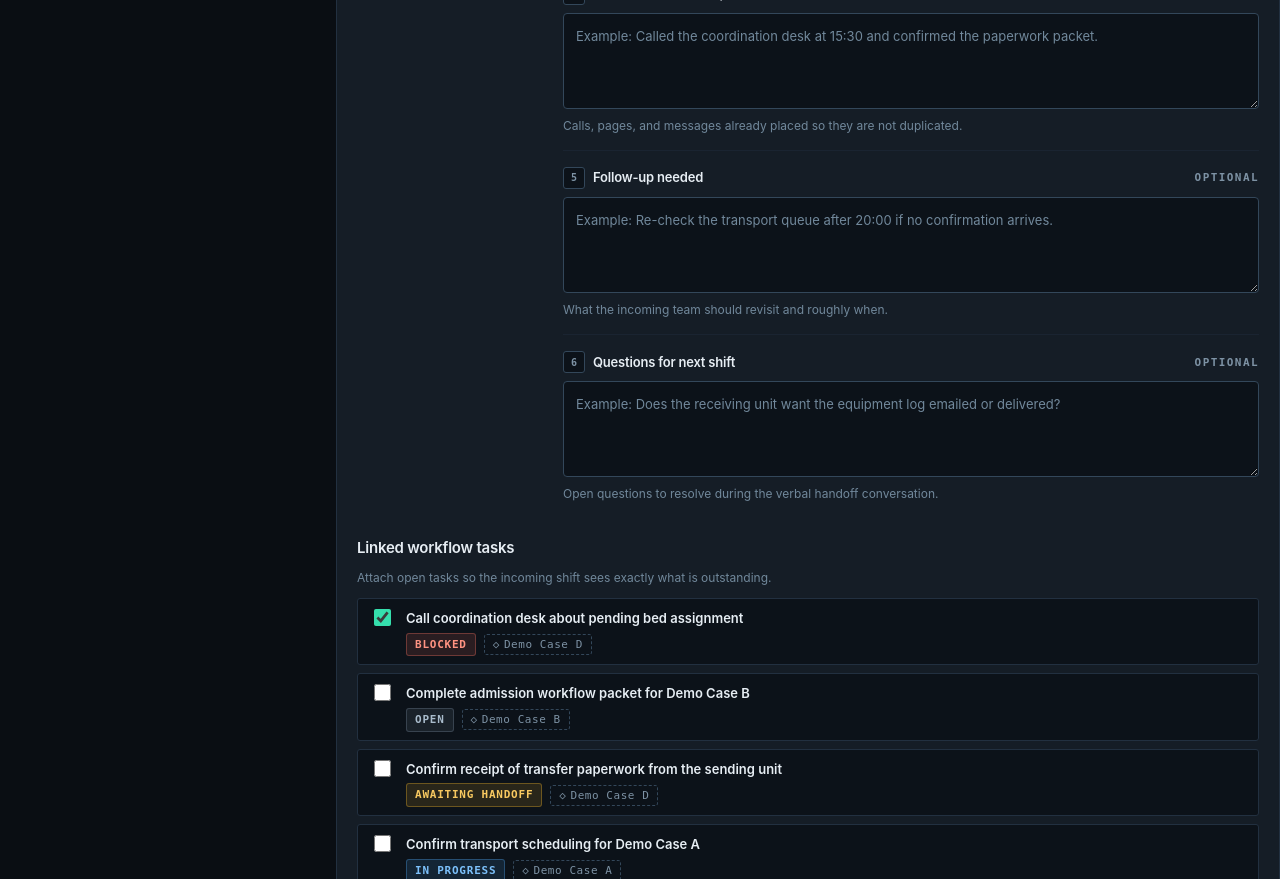
Scenario: HandoffPage › saves a draft only when there are unsaved changes
The image size is (1280, 879).
(page scrolled)
Type "Who owns the pager log?" into the text box named "Questions for next shift" at (911, 429), box [563,381,1259,477]
(page scrolled)
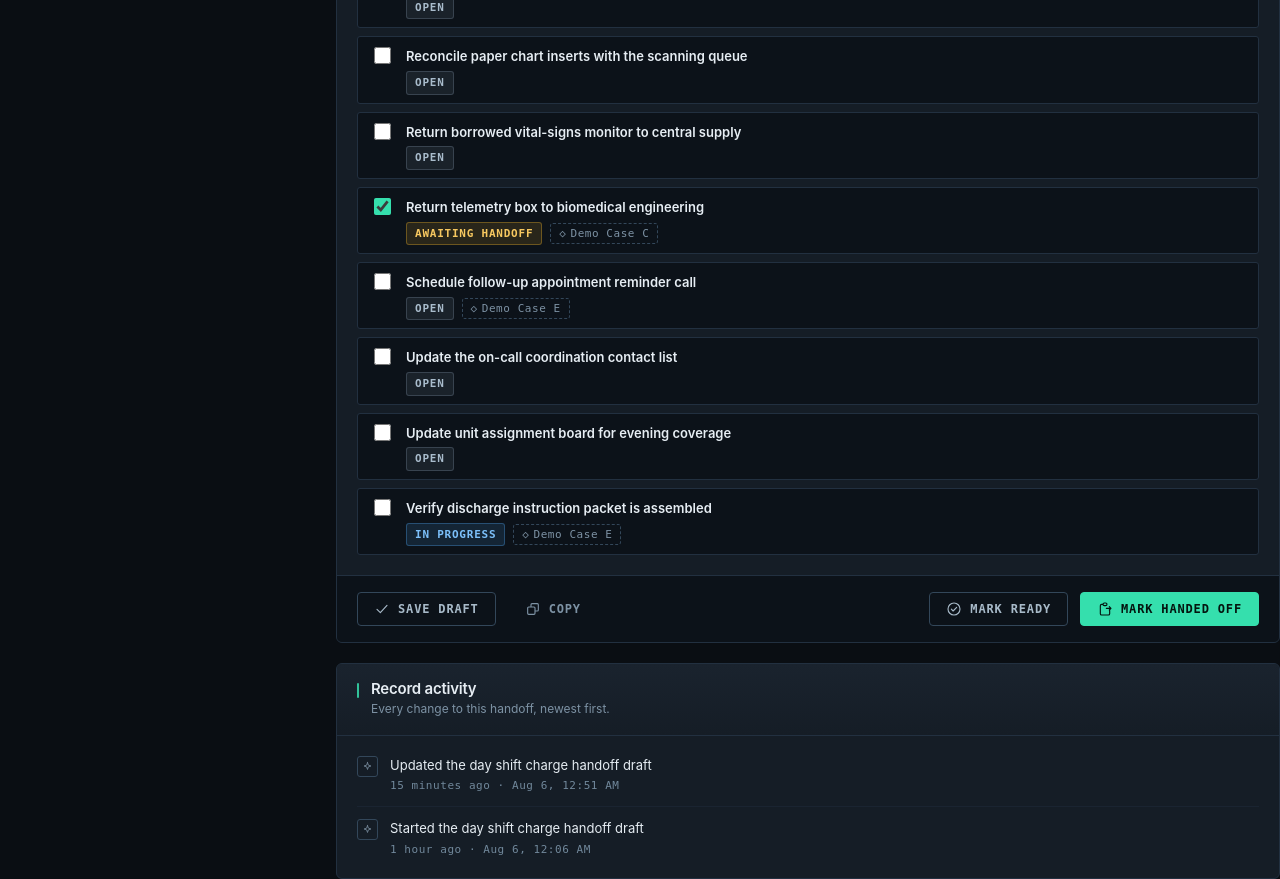
Result: the button "Save draft" is enabled
Click the button "Save draft" at (426, 609), box [357,592,496,626]
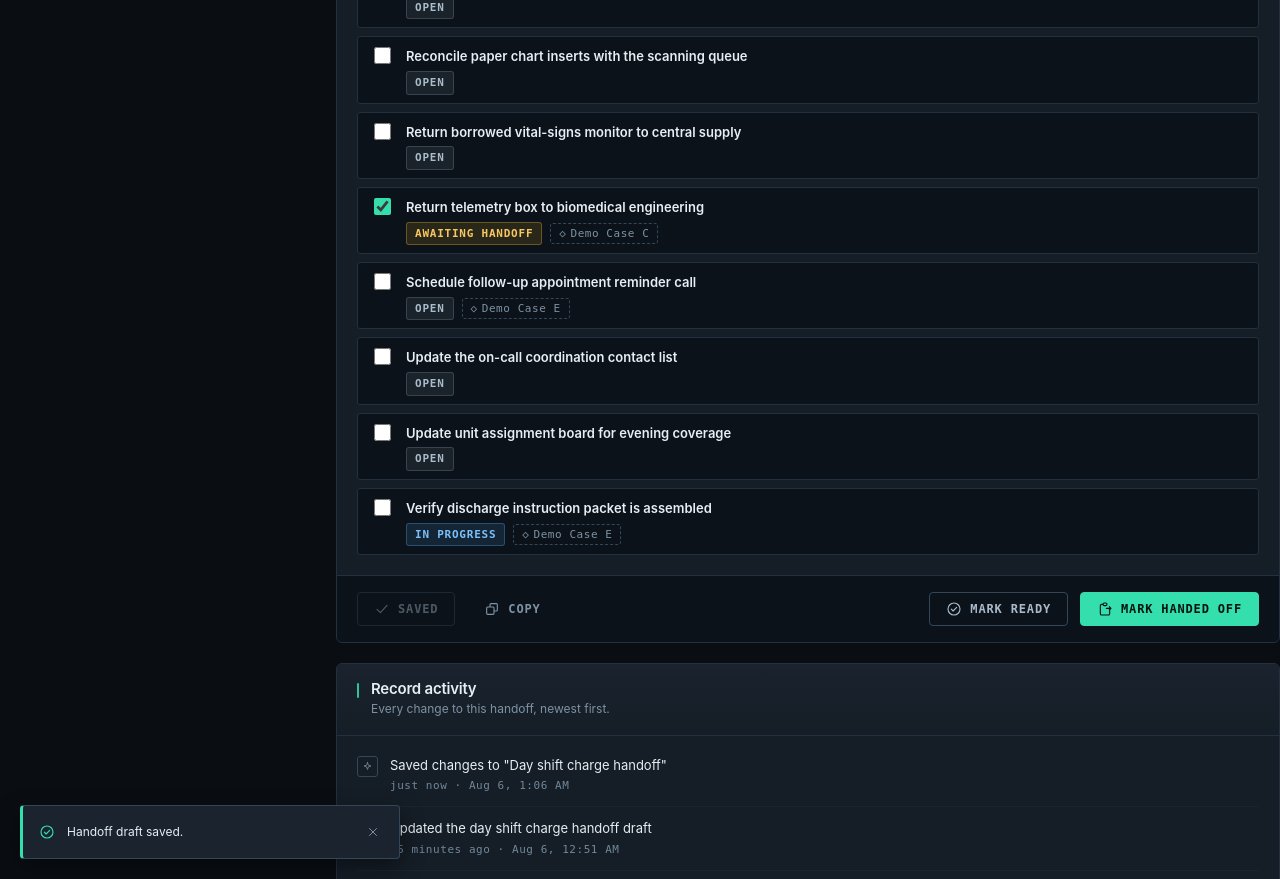
Result: the button "Saved" is disabled at [357,592,455,626]
